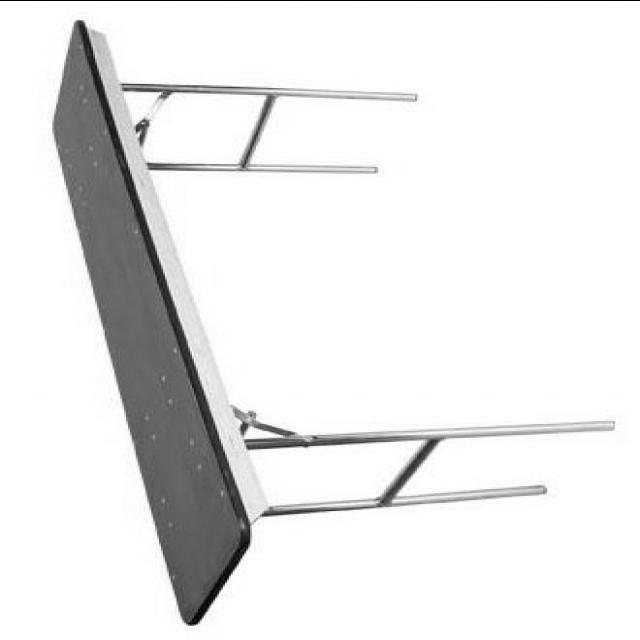table: (53, 20, 616, 630)
